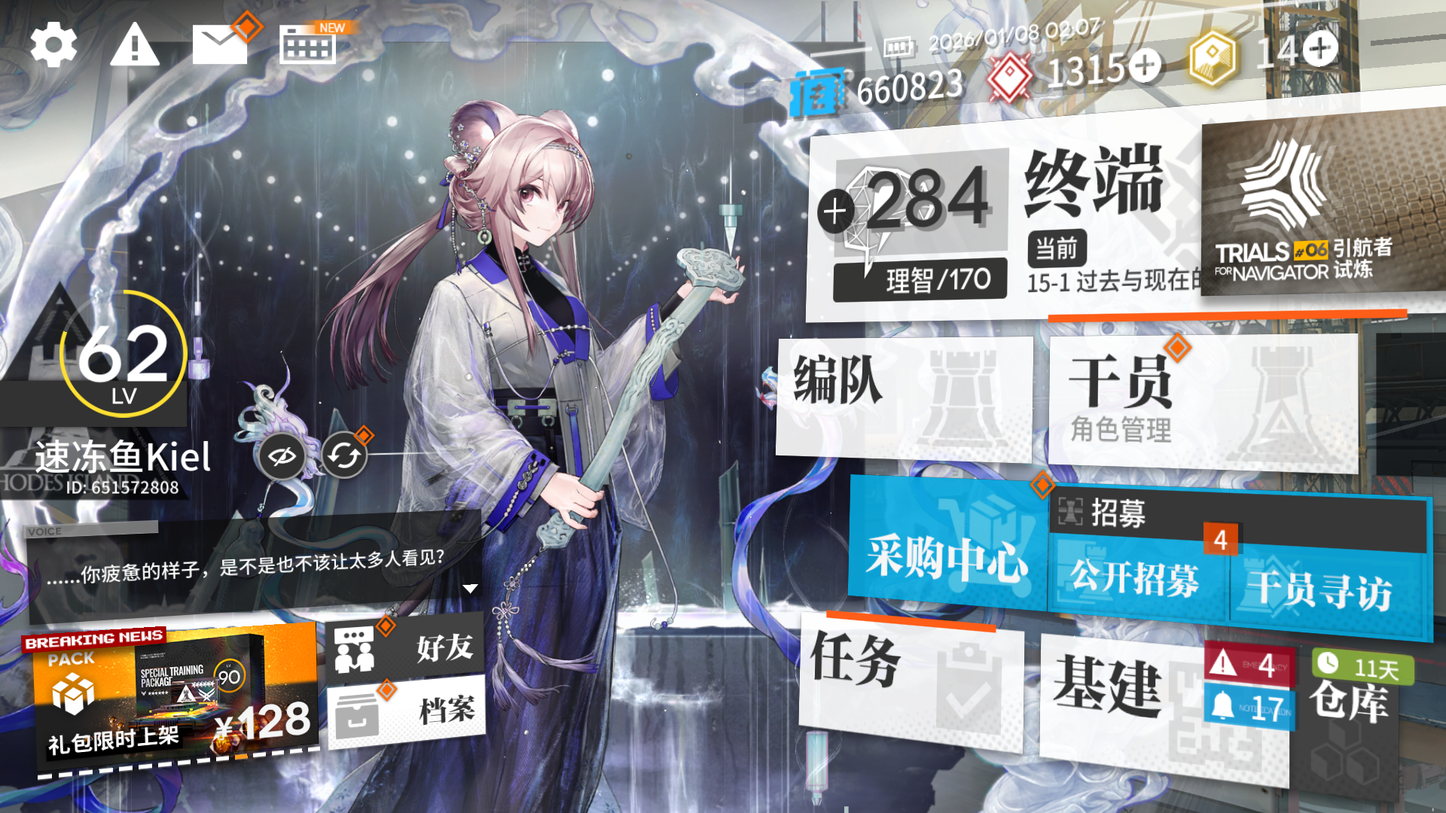home_button: (1006, 127, 1169, 234)
infrastructure_button: (1047, 637, 1271, 780)
